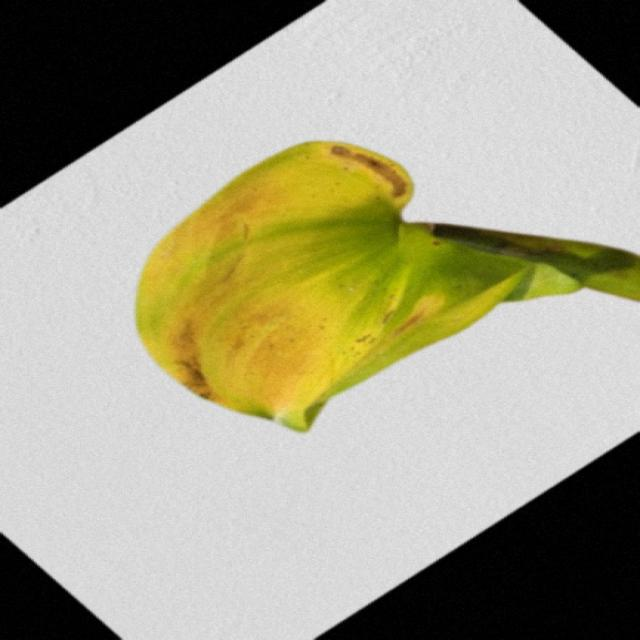daun berpenyakit kuning: (137, 141, 638, 431)
